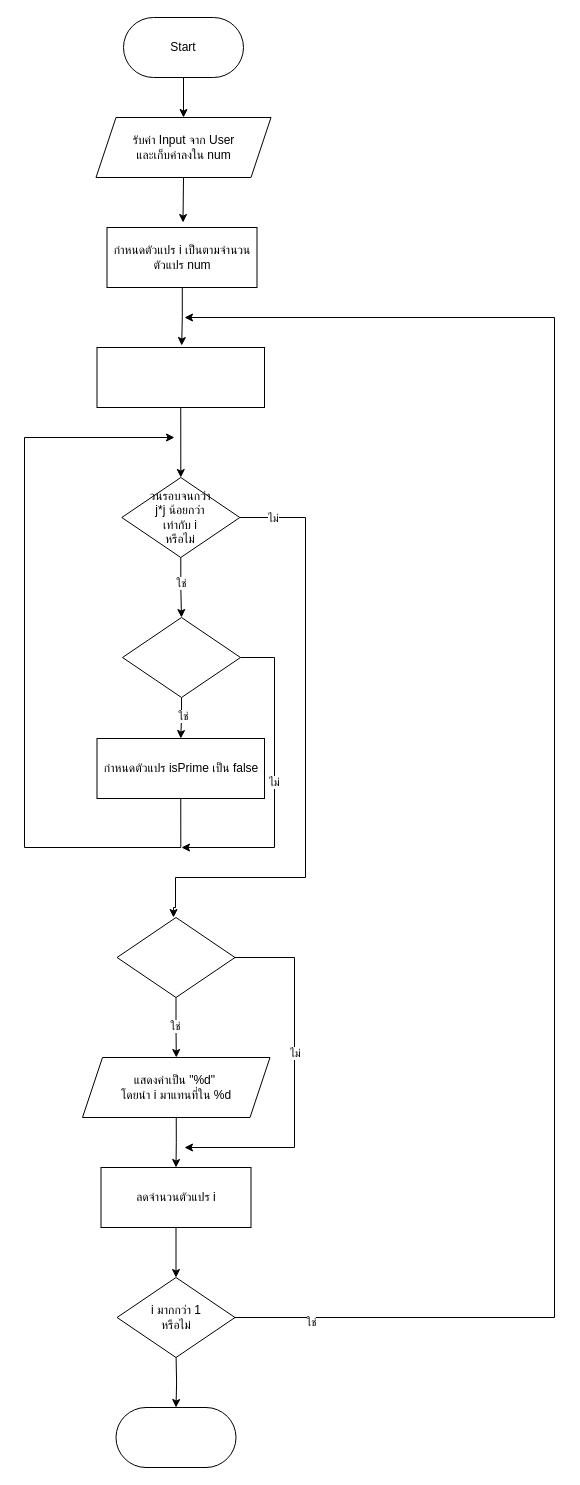
This 580x1485 diagram has some shape labels left out. The shapes that lost their labels are listed below. From the top down, each one's centre as x and y in pixels, then its label:
At (x=180, y=377): "กำหนดตัวแปร isPrime เป็น true".
At (x=181, y=657): "i % j เท่ากับ 0 หรือไม่".
At (x=175, y=957): "isPrime เป็น true หรือไม่".
At (x=175, y=1437): "End".
